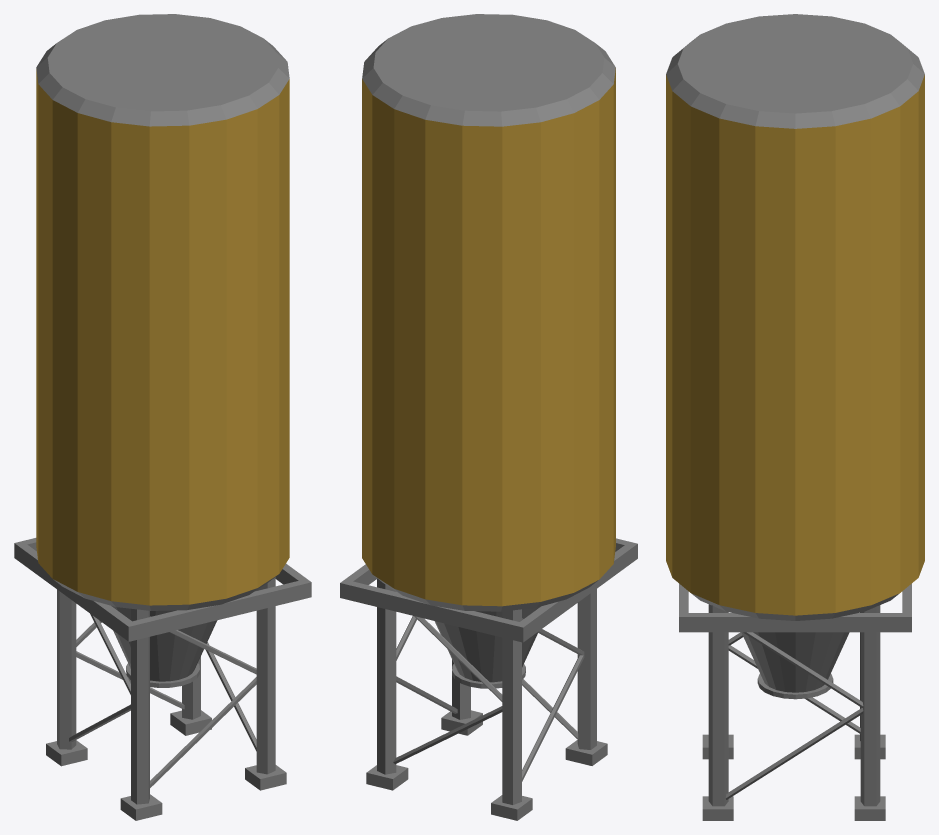
Rendered from model_oil_tank_01.fbx.
The picture shows the model from 3 angles, left to right: view 1: azimuth 30°, elevation 25°; view 2: azimuth 150°, elevation 25°; view 3: azimuth 270°, elevation 25°; orthographic projection.
Parts seen in each view (by area): view 1: model_oil_tank_01; view 2: model_oil_tank_01; view 3: model_oil_tank_01.
Part boxes in pixels (x1,y1,x2,y2): model_oil_tank_01: (14,14,311,820); model_oil_tank_01: (340,14,637,820); model_oil_tank_01: (666,14,924,820).
Size of the model in its own units: 168 by 515 by 168.
1 material, 1 textured.
